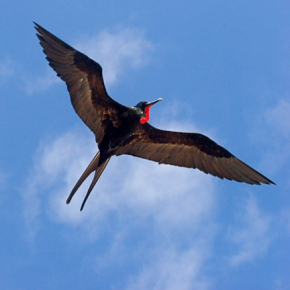bird: (30, 19, 280, 212)
